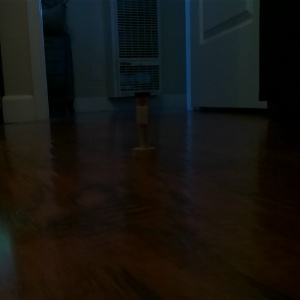traffic light red: (131, 90, 157, 160)
